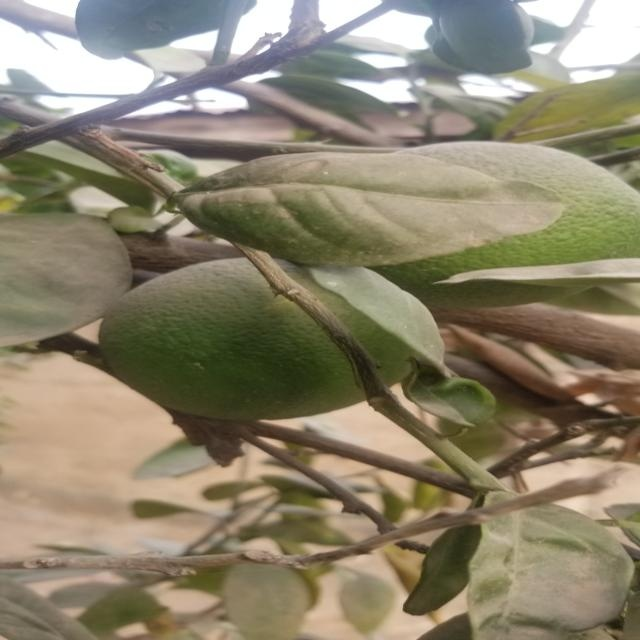agrume: (104, 260, 424, 424), (401, 141, 623, 303)
